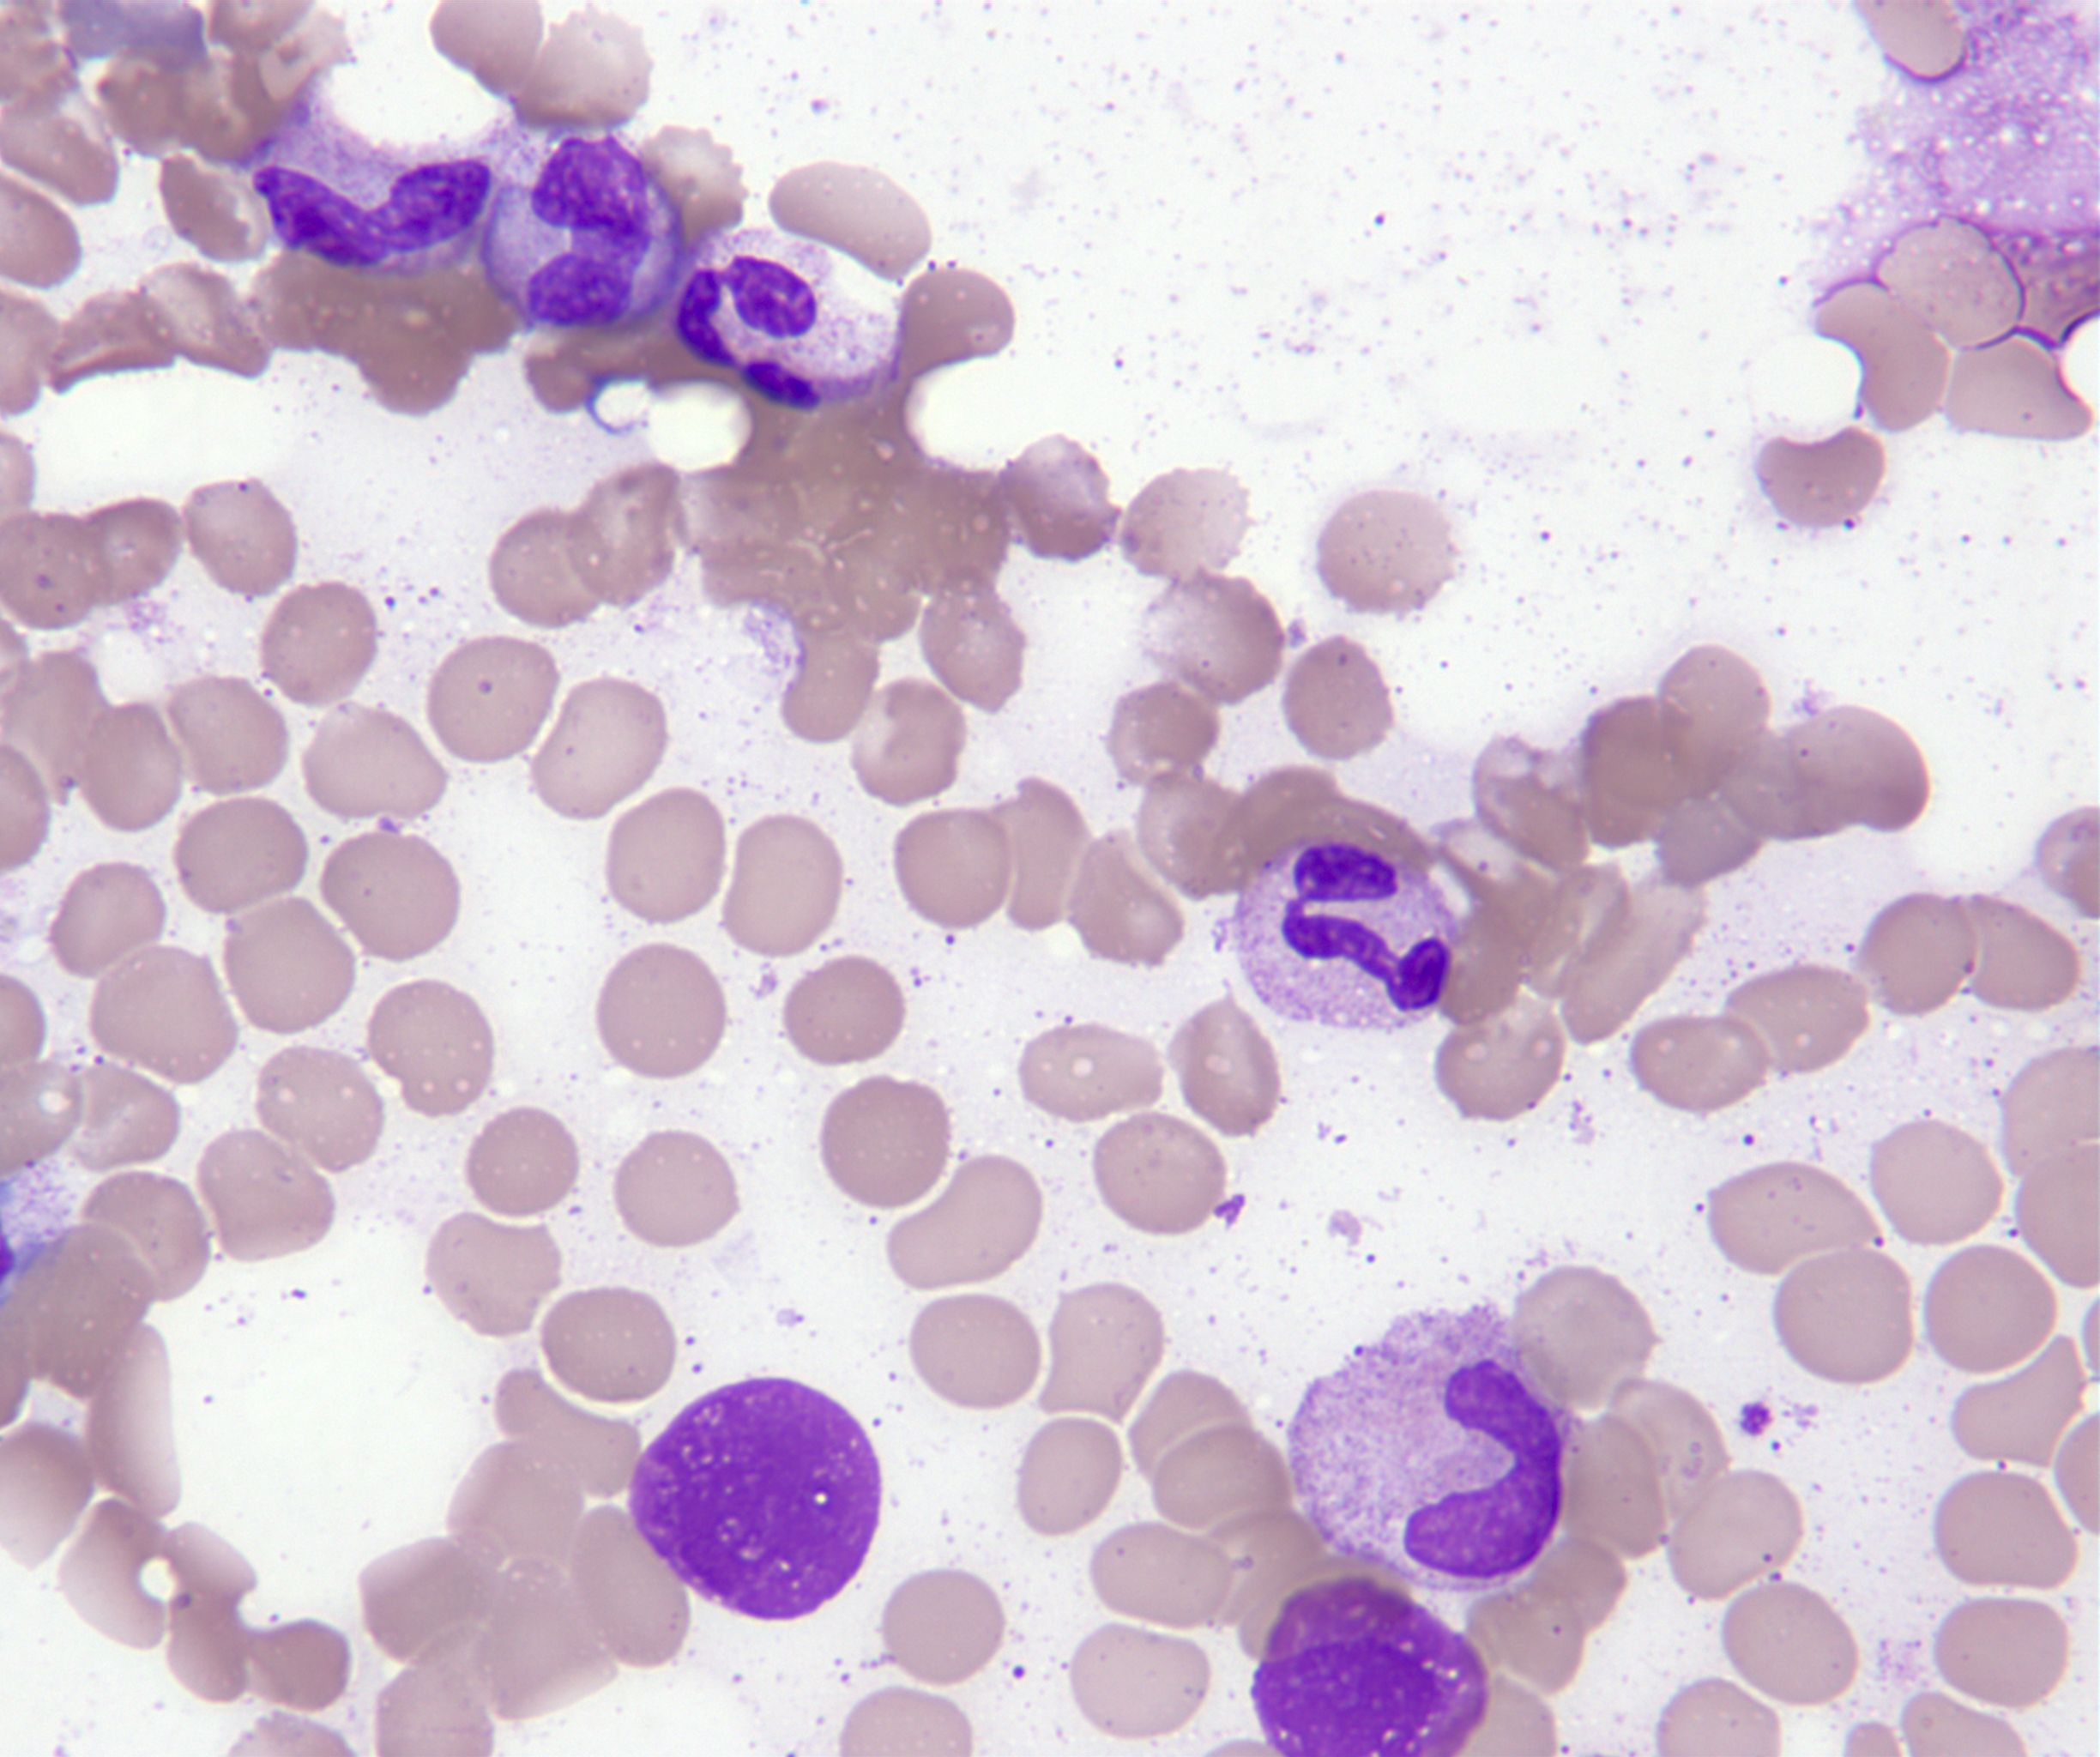4: (481, 124, 684, 333)
5: (1289, 1307, 1565, 1595), (241, 66, 527, 279)
6: (1216, 839, 1456, 1029), (665, 229, 902, 410)
x: (630, 1380, 881, 1623), (1252, 1581, 1490, 1757)
